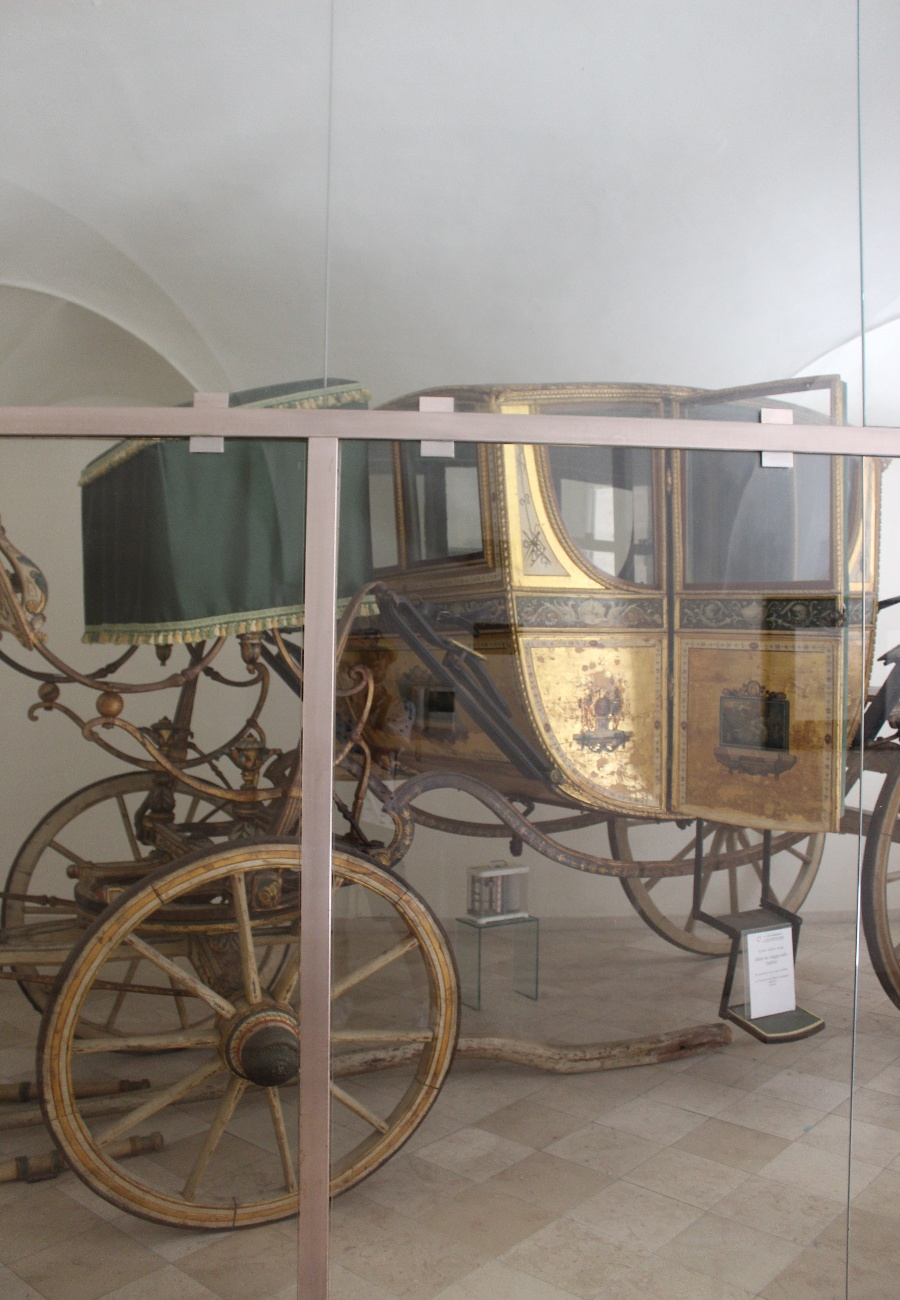Berlina Mosca: (1, 375, 900, 1232)
